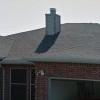Chimney: (38, 6, 67, 35)
